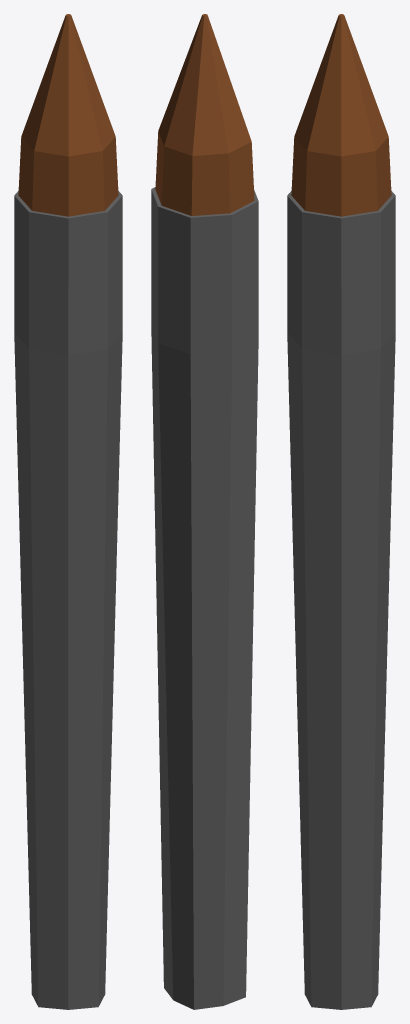
Rendered from RoundBrush1.glb.
3 views of the same model, side by side, from view 1: azimuth 90°, elevation 25°; view 2: azimuth 210°, elevation 25°; view 3: azimuth 270°, elevation 25° (orthographic).
Parts seen in each view (by area): view 1: RoundBrush1; view 2: RoundBrush1; view 3: RoundBrush1.
Part boxes in pixels (<box>): RoundBrush1: <box>14,14,122,1009</box>; RoundBrush1: <box>151,14,258,1009</box>; RoundBrush1: <box>287,14,395,1009</box>.
Bounding box in the file's own units: 0.033 × 0.3286 × 0.033.
